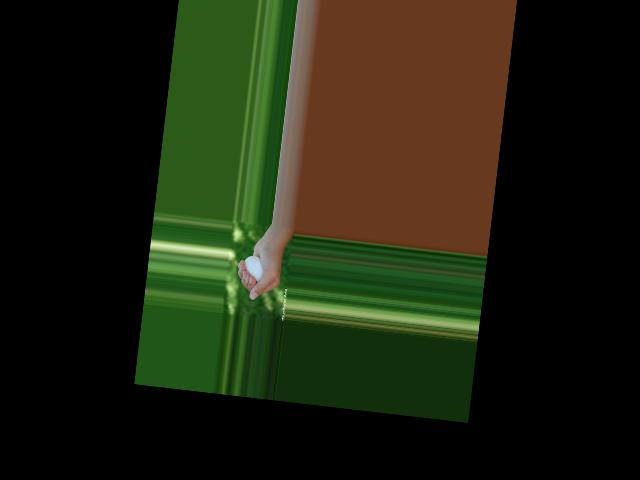egg: (242, 255, 264, 283)
